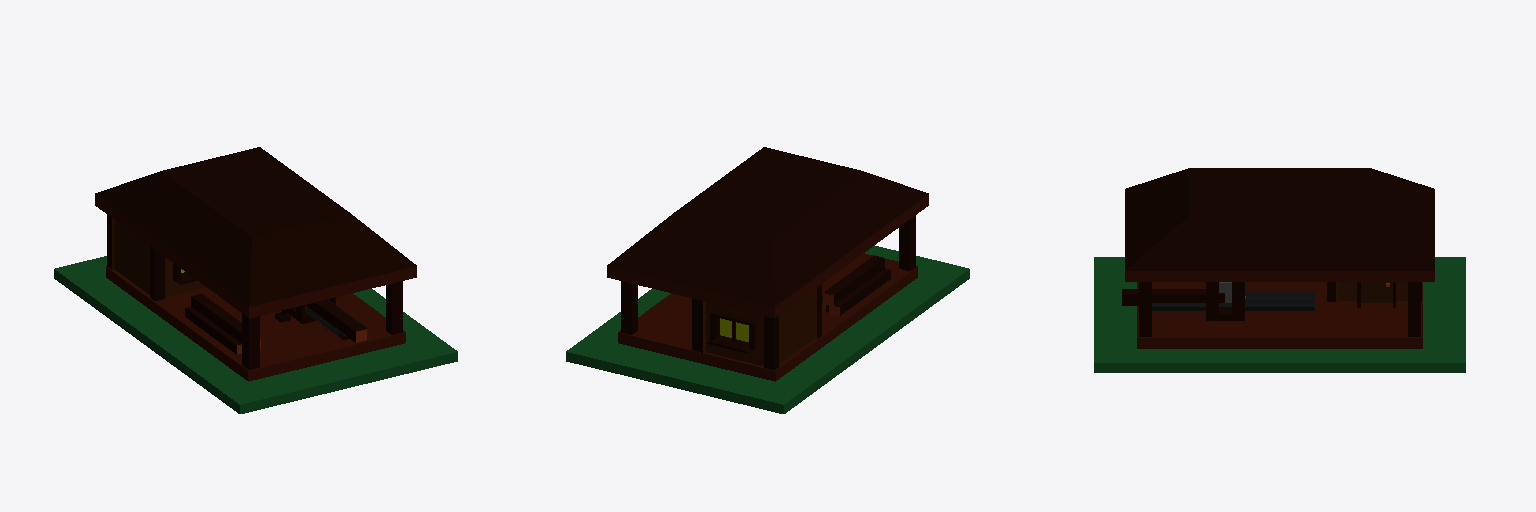
Rendered from Sawmill.obj.
3 views of the same model, side by side, from view 1: azimuth 30°, elevation 25°; view 2: azimuth 150°, elevation 25°; view 3: azimuth 270°, elevation 25° (orthographic).
Parts seen in each view (by area): view 1: Cube.009, Cube.014, Cube, Cube.001, Cube.010, Cube.013, Cube.006, Cube.007, Cube.011, Cube.004; view 2: Cube.009, Cube.014, Cube, Cube.001, Cube.013, Cube.003, Cube.011, Cube.008, Cube.006; view 3: Cube.009, Cube.014, Cube, Cube.004, Cube.010, Cube.002, Cube.001, Cube.007, Cube.008.
Boxes of the visible parts, x1=… form: Cube.009: x1=95, y1=147, x2=416, y2=317; Cube.014: x1=54, y1=256, x2=457, y2=413; Cube: x1=106, y1=266, x2=405, y2=381; Cube.001: x1=107, y1=215, x2=205, y2=300; Cube.010: x1=305, y1=300, x2=366, y2=342; Cube.013: x1=191, y1=294, x2=241, y2=342; Cube.006: x1=242, y1=313, x2=259, y2=369; Cube.007: x1=386, y1=281, x2=402, y2=334; Cube.011: x1=185, y1=307, x2=241, y2=354; Cube.004: x1=287, y1=297, x2=366, y2=339; Cube.009: x1=607, y1=147, x2=928, y2=317; Cube.014: x1=566, y1=245, x2=969, y2=413; Cube: x1=618, y1=253, x2=917, y2=381; Cube.001: x1=692, y1=284, x2=821, y2=369; Cube.013: x1=823, y1=255, x2=884, y2=305; Cube.003: x1=707, y1=311, x2=755, y2=353; Cube.011: x1=829, y1=268, x2=890, y2=316; Cube.008: x1=621, y1=281, x2=637, y2=334; Cube.006: x1=899, y1=215, x2=915, y2=270; Cube.009: x1=1125, y1=168, x2=1434, y2=281; Cube.014: x1=1094, y1=257, x2=1465, y2=372; Cube: x1=1137, y1=282, x2=1422, y2=348; Cube.004: x1=1152, y1=282, x2=1314, y2=320; Cube.010: x1=1122, y1=289, x2=1224, y2=305; Cube.002: x1=1357, y1=282, x2=1395, y2=307; Cube.001: x1=1327, y1=282, x2=1421, y2=301; Cube.007: x1=1139, y1=282, x2=1151, y2=336; Cube.008: x1=1408, y1=282, x2=1420, y2=336.
Size of the model in its own units: 12.89 by 7.22 by 19.05.